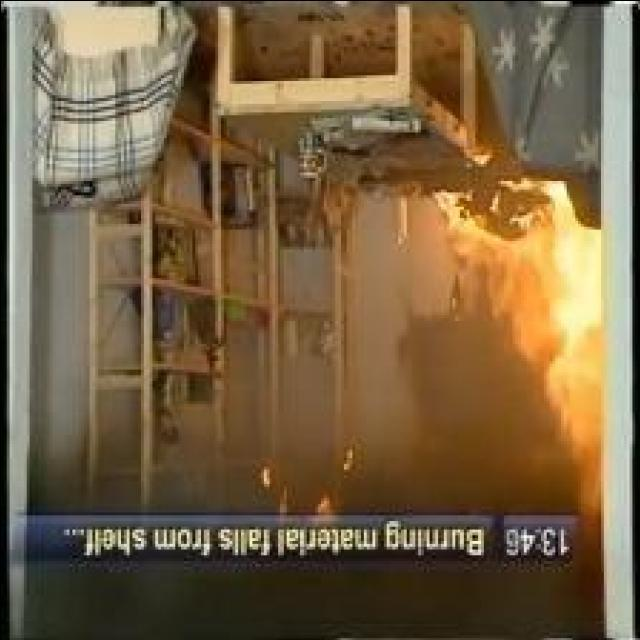Fire: (428, 175, 600, 516)
